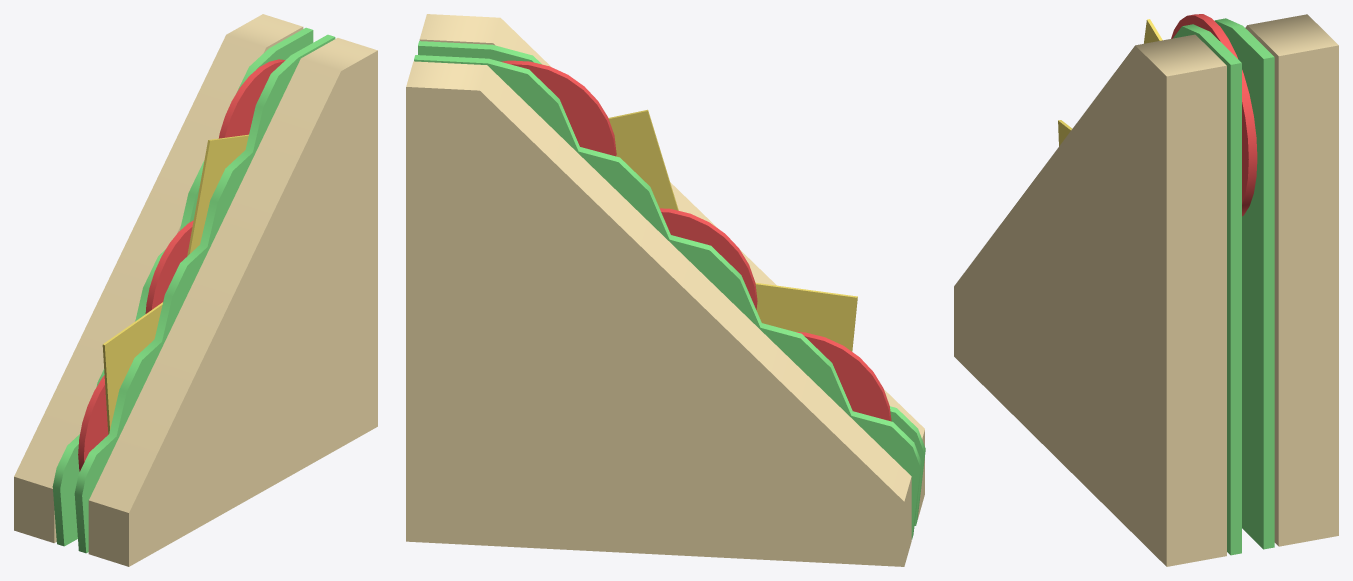
The model's file is sandwich.fbx.
The picture shows the model from 3 angles, left to right: view 1: azimuth 30°, elevation 25°; view 2: azimuth 150°, elevation 25°; view 3: azimuth 270°, elevation 25°; orthographic projection. The views are drawn at different scales.
Visible parts, largest first — view 1: polySurface740; view 2: polySurface740; view 3: polySurface740.
Boxes of the visible parts, box(x1,y1,x2,y2) form: polySurface740: box(14, 14, 377, 566); polySurface740: box(406, 14, 925, 566); polySurface740: box(954, 14, 1338, 566).
Size of the model in its own units: 19.09 by 18.08 by 12.86.
